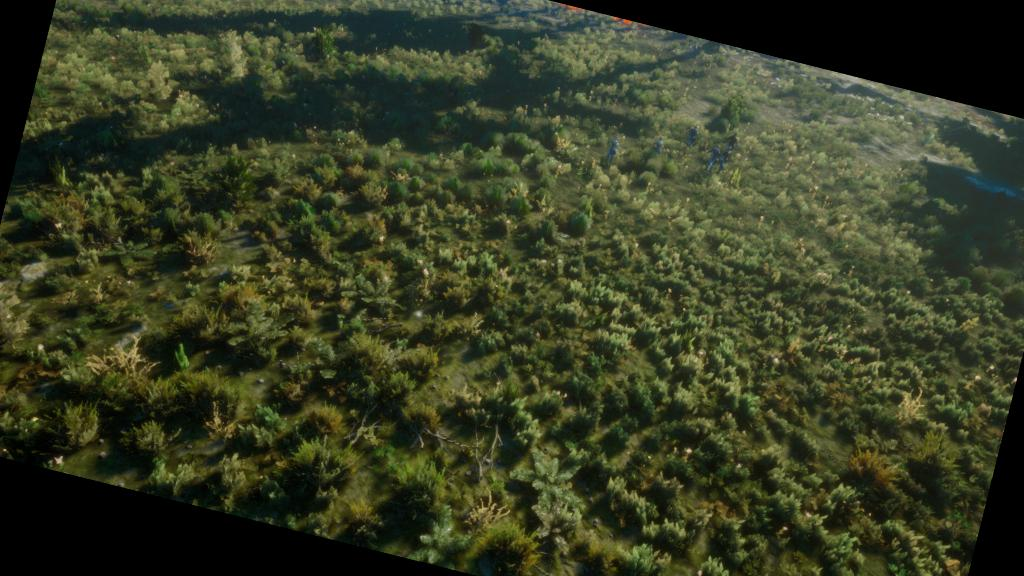human: (693, 117, 753, 199), (640, 123, 681, 166), (596, 121, 628, 175), (682, 111, 712, 156)
